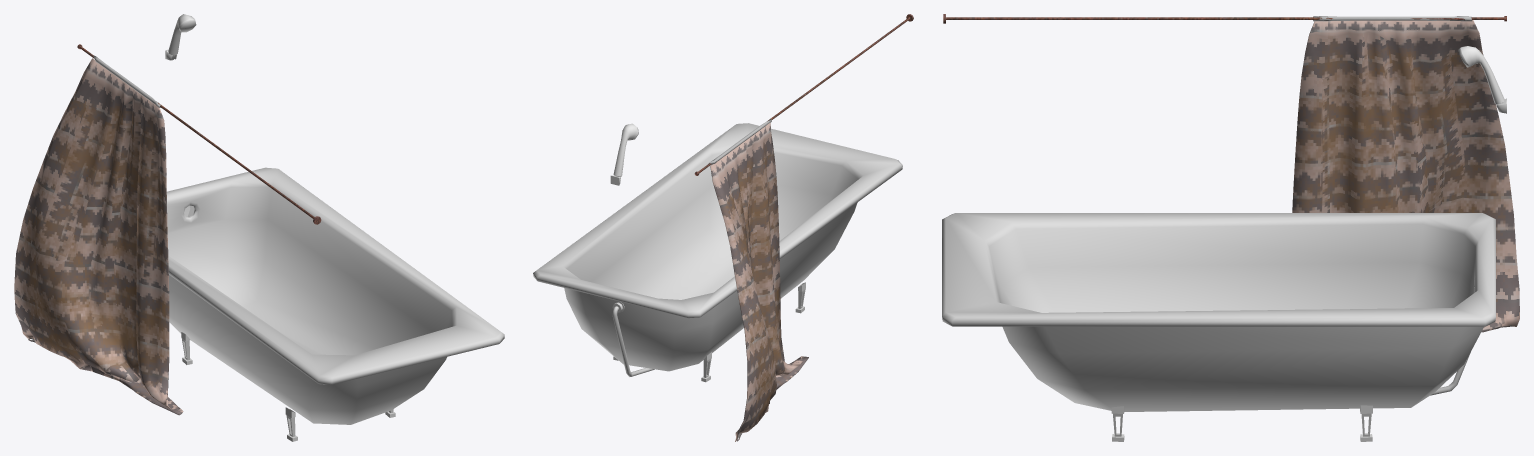
File: Bath.fbx
The picture shows the model from 3 angles, left to right: view 1: azimuth 30°, elevation 25°; view 2: azimuth 150°, elevation 25°; view 3: azimuth 270°, elevation 25°; orthographic projection. The views are drawn at different scales.
Visible parts, largest first — view 1: bath, Retopo_Object_1, Object_2, shower_head; view 2: bath, Retopo_Object_1, Object_2, shower_head; view 3: bath, Retopo_Object_1, Object_2, shower_head.
Boxes of the visible parts, box(x1,y1,x2,y2) form: bath: box(166, 167, 504, 441); Retopo_Object_1: box(14, 55, 183, 415); Object_2: box(77, 44, 321, 224); shower_head: box(168, 14, 196, 60); bath: box(533, 123, 902, 382); Retopo_Object_1: box(708, 119, 808, 441); Object_2: box(694, 14, 913, 175); shower_head: box(613, 123, 638, 176); bath: box(942, 213, 1495, 441); Retopo_Object_1: box(1292, 16, 1519, 332); Object_2: box(943, 14, 1506, 23); shower_head: box(1458, 46, 1504, 104).
Size of the model in its own units: 127 by 148 by 214.
3 materials, 1 textured.
